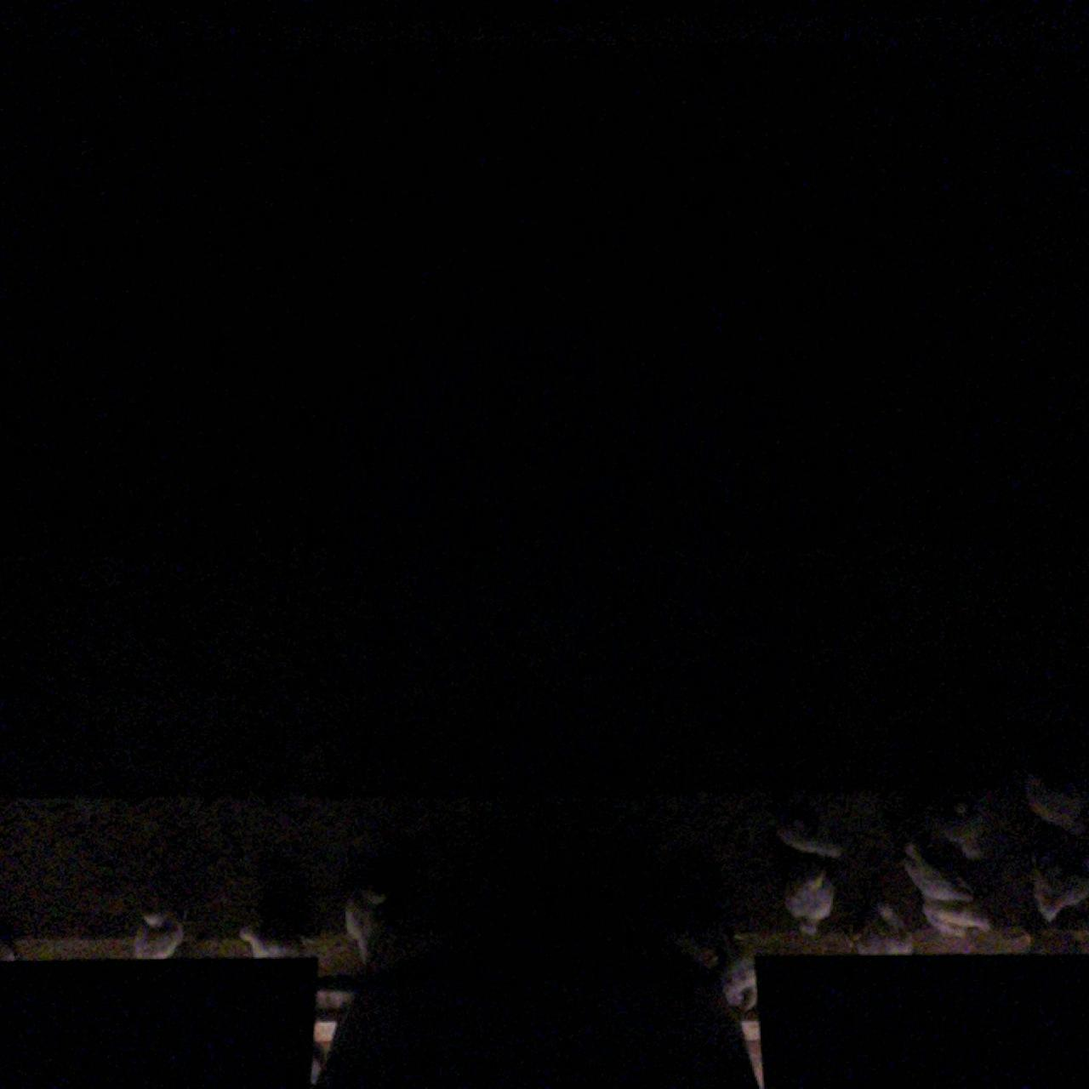chicken: (334, 867, 402, 969), (897, 836, 982, 908), (767, 794, 851, 866), (935, 790, 1018, 862), (1012, 761, 1089, 835), (116, 895, 192, 964), (774, 863, 843, 936), (1022, 862, 1089, 924), (852, 897, 917, 955), (715, 939, 767, 1011), (918, 897, 997, 941), (235, 916, 310, 961)
